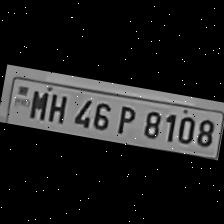0: (172, 110, 197, 146)
1: (158, 109, 179, 143)
4: (68, 94, 95, 130)
6: (88, 97, 114, 132)
8: (136, 105, 164, 141), (192, 114, 216, 149)
H: (42, 89, 70, 126)
M: (24, 86, 48, 122)
P: (110, 102, 140, 138)
